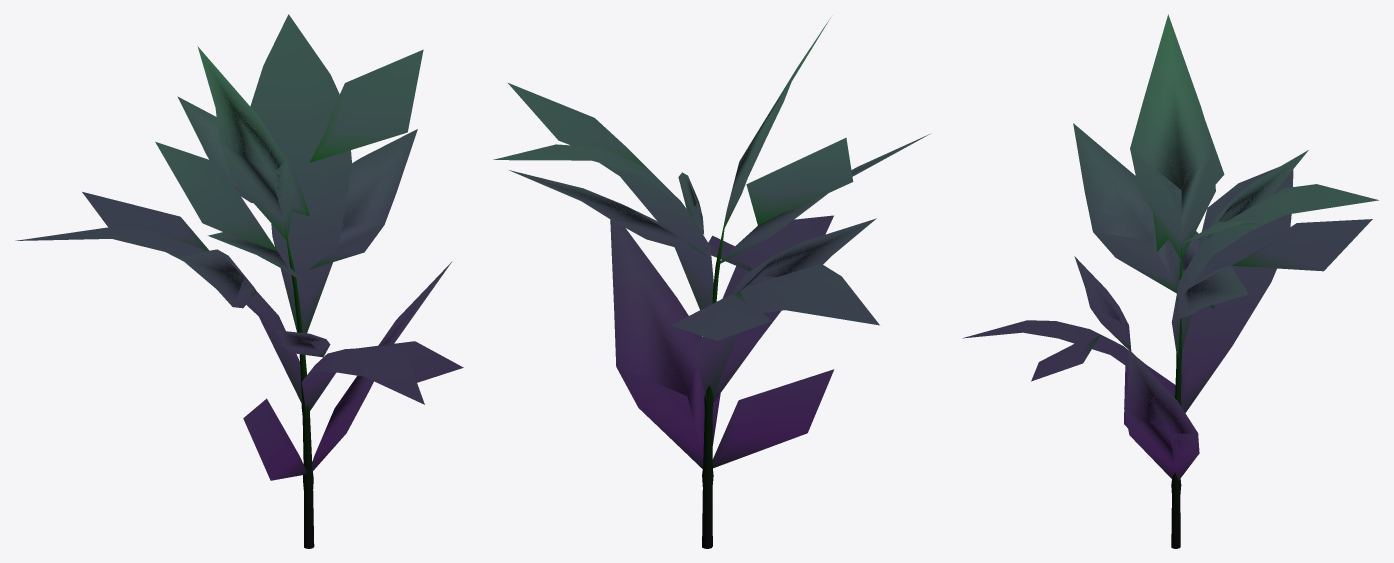
Rendered from TSI_Bamboo_01B.fbx.
3 views of the same model, side by side, from view 1: azimuth 30°, elevation 25°; view 2: azimuth 150°, elevation 25°; view 3: azimuth 270°, elevation 25° (orthographic). The views are drawn at different scales.
Parts seen in each view (by area): view 1: TSI_Bamboo_01B_LOD0; view 2: TSI_Bamboo_01B_LOD0; view 3: TSI_Bamboo_01B_LOD0.
Part boxes in pixels (x1,y1,x2,y2): TSI_Bamboo_01B_LOD0: [15, 14, 463, 548]; TSI_Bamboo_01B_LOD0: [493, 18, 931, 548]; TSI_Bamboo_01B_LOD0: [962, 14, 1378, 548].
Bounding box in the file's own units: 88.24 × 117 × 92.37.
